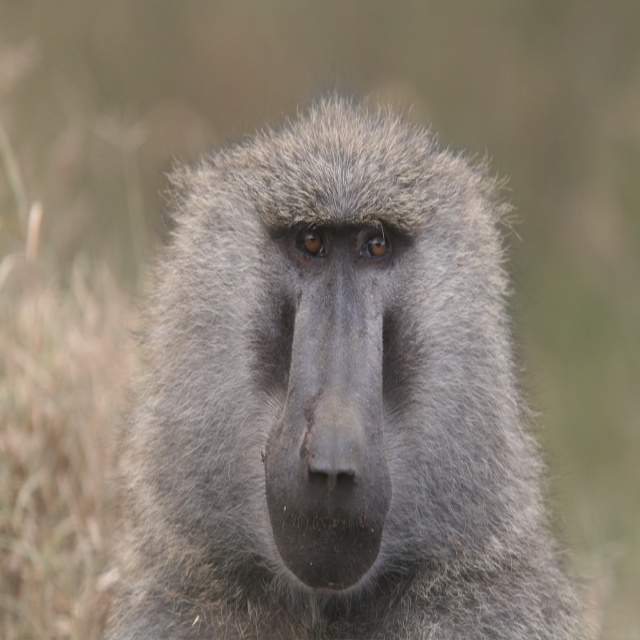Monkey: (91, 60, 617, 640)
